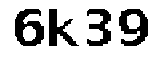3: (83, 5, 117, 50)
6: (13, 3, 46, 47)
9: (120, 6, 155, 51)
k: (47, 6, 81, 52)
